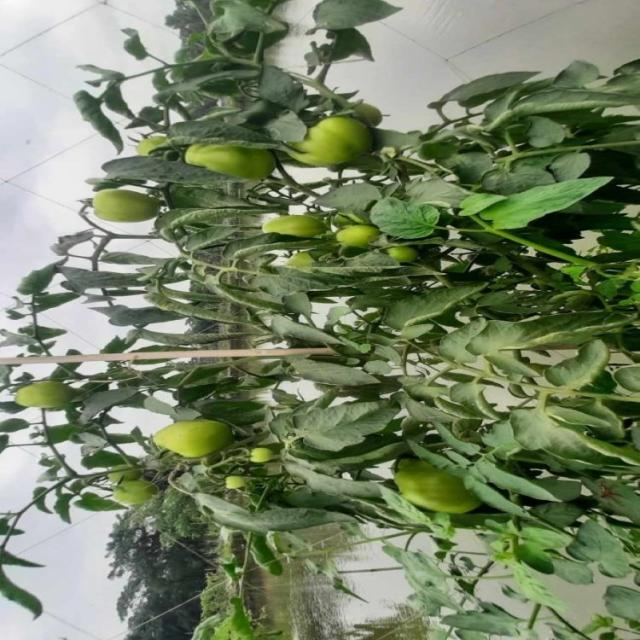tomato: (395, 454, 477, 522), (295, 108, 381, 169), (264, 198, 339, 248), (153, 408, 221, 461), (90, 191, 165, 233), (195, 135, 267, 176), (16, 370, 67, 422), (100, 468, 149, 508), (129, 121, 176, 156), (332, 208, 369, 244), (243, 447, 279, 483), (387, 241, 421, 264), (220, 471, 246, 501)
